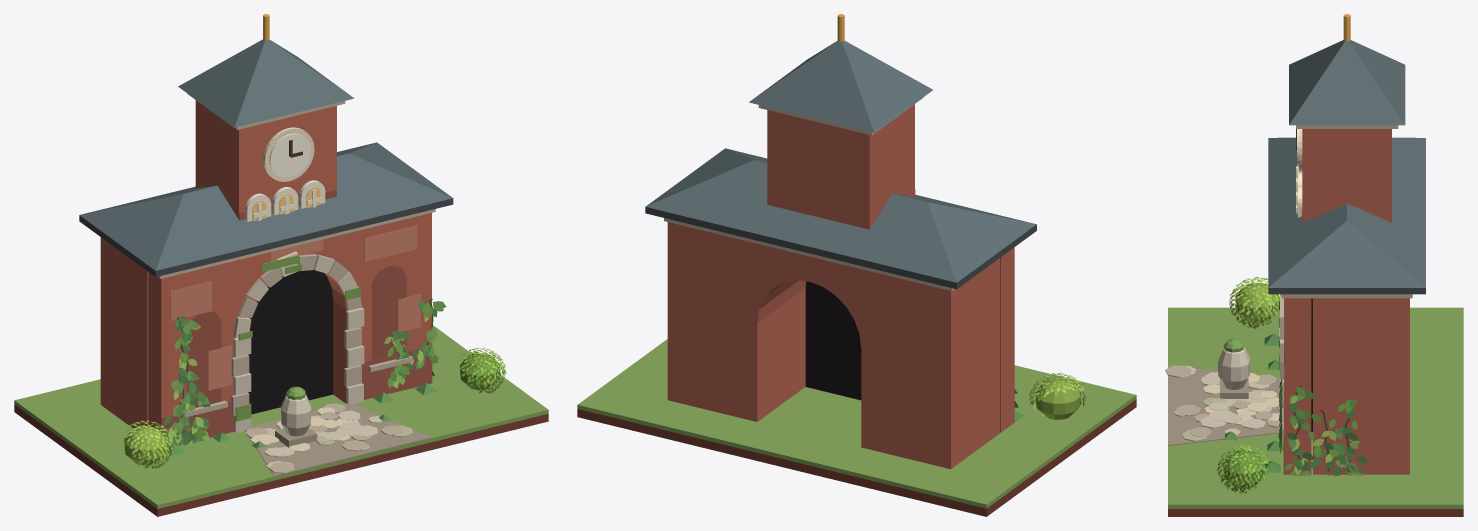
Rendered from city-gate.glb.
3 views of the same model, side by side, from view 1: azimuth 30°, elevation 25°; view 2: azimuth 150°, elevation 25°; view 3: azimuth 270°, elevation 25° (orthographic). The views are drawn at different scales.
Visible parts, largest first — view 1: city-gate; view 2: city-gate; view 3: city-gate.
Part boxes in pixels (x1,y1,x2,y2): city-gate: (14,14,548,516); city-gate: (577,14,1136,516); city-gate: (1165,14,1463,516).
Size of the model in its own units: 5.2 by 5 by 3.33.
